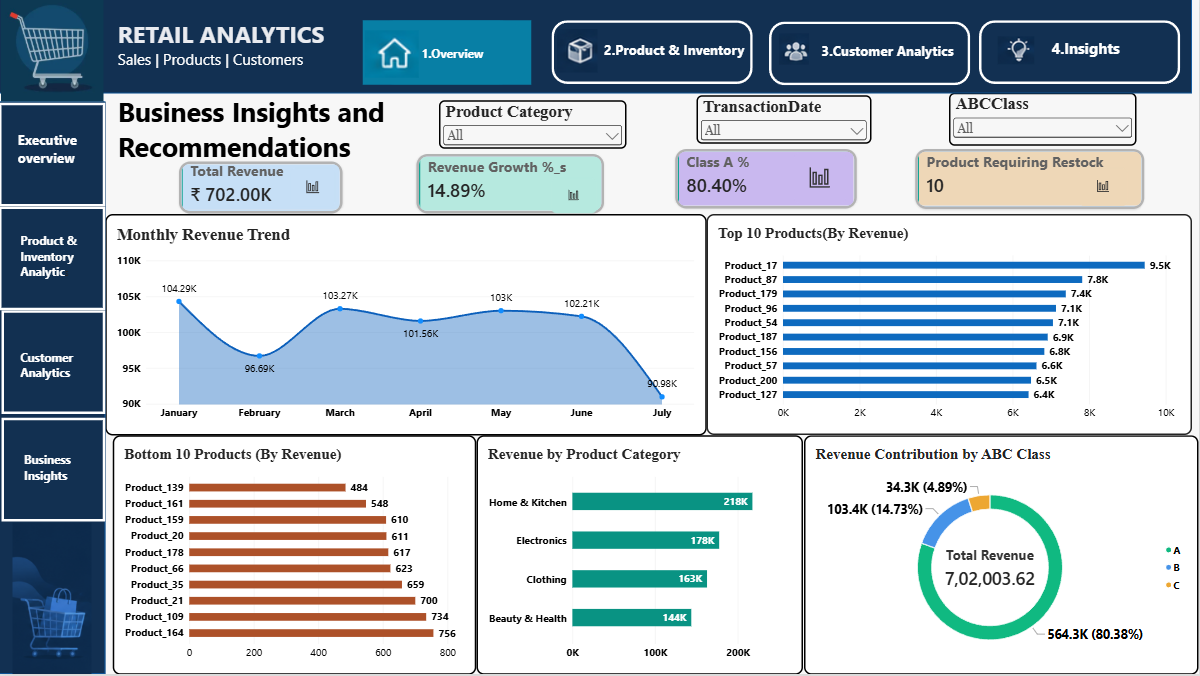

The dashboard page shown, as its layout file describes it:
{"tool":"powerbi","page":{"name":"Business Insights & Recommendations","canvas":[1920,1080],"ordinal":3},"visuals":[{"type":"slicer","fields":{"Values":["clean_sales.TransactionDate"]},"box":[1115.3,154.6,279.8,77.3],"z":0},{"type":"slicer","fields":{"Values":["clean_products.Category"]},"box":[703.1,162,300,77.3],"z":1000},{"type":"slicer","fields":{"Values":["abc_summary.ABCClass"]},"box":[1520.3,150.9,300,84.7],"z":2000},{"type":"cardVisual","fields":{"Data":["clean_sales.Total Revenue"]},"box":[289,259.5,261.4,82.8],"z":3000},{"type":"cardVisual","fields":{"Data":["clean_sales.Revenue Growth %_s"]},"box":[668.1,248.5,300,95],"z":4000},{"type":"cardVisual","fields":{"Data":["abc_summary.Class A %"]},"box":[1082.2,239.3,290,95],"z":5000},{"type":"cardVisual","fields":{"Data":["bottom10_products.restock"]},"box":[1466.9,239.3,366.3,95.7],"z":6000},{"type":"lineChart","title":"Monthly Revenue Trend","fields":{"Category":["DateTable.Date.Variation.Date Hierarchy.Month"],"Y":["Sum(clean_sales.Revenue)"]},"box":[170,344,962,354],"z":7000},{"type":"clusteredBarChart","title":"Revenue by Product Category","fields":{"Category":["category_performance.Category"],"Y":["Sum(category_performance.revenue)"]},"box":[763.8,697.5,522.7,382.8],"z":8000},{"type":"clusteredBarChart","title":"Top 10 Products(By Revenue)","fields":{"Category":["top10_products.ProductName"],"Y":["Sum(top10_products.Revenue)"]},"box":[1131.9,344.2,776.7,353.4],"z":9000},{"type":"clusteredBarChart","title":"Bottom 10 Products (By Revenue)","fields":{"Category":["bottom10_products.ProductName"],"Y":["Sum(bottom10_products.Revenue)"]},"box":[182.2,697.5,581.6,382.8],"z":10000},{"type":"donutChart","title":"Revenue Contribution by ABC Class","fields":{"Category":["abc_summary.ABCClass"],"Y":["Sum(abc_summary.revenue)"]},"box":[1288.4,697.5,631.3,382.8],"z":11000},{"type":"shape","box":[0,164,170,916],"z":12001},{"type":"shape","box":[0,166,170,914],"z":12002},{"type":"shape","box":[0,0,1908.6,150.9],"z":12003},{"type":"shape","box":[884,34,322,102],"z":12005},{"type":"shape","box":[582.5,35,269.6,102.9],"z":12006},{"type":"shape","box":[1232,36,322,102],"z":12007},{"type":"shape","box":[1568,34,322,102],"z":12008},{"type":"shape","box":[0,166,170,166],"z":12009},{"type":"shape","box":[4,498,166,166],"z":12011},{"type":"shape","box":[0,332,170,166],"z":12012},{"type":"shape","box":[4,670,166,166],"z":12013},{"type":"image","box":[0,838,170,242],"z":12014},{"type":"textbox","box":[190.6,30.2,392.5,120.8],"z":12015},{"type":"image","box":[0,0,169.8,164.2],"z":12016},{"type":"image","box":[582.5,49.4,92.6,76.2],"z":12017},{"type":"image","box":[884,48,82.3,70],"z":12018},{"type":"image","box":[1248,38,48,84],"z":12019},{"type":"image","box":[1598,42,58,80],"z":12020},{"type":"textbox","box":[967.9,66,230.2,73.6],"z":12021},{"type":"textbox","box":[1315.1,67.9,217,62.3],"z":12022},{"type":"textbox","box":[1683,62.3,169.8,43.4],"z":12023},{"type":"textbox","box":[675.5,73.6,149.1,34],"z":12024},{"type":"textbox","box":[30,210,124,90],"z":12025},{"type":"textbox","box":[34,373.6,149.1,105.7],"z":12026},{"type":"textbox","box":[34,560.4,149.1,64.2],"z":12027},{"type":"textbox","box":[40.5,723.3,149.1,58.5],"z":12028},{"type":"clusteredColumnChart","fields":{"Category":["DateTable.Date.Variation.Date Hierarchy.Month"],"Y":["clean_sales.Total Revenue"]},"box":[465.6,270.6,71.8,62.6],"z":12030},{"type":"clusteredColumnChart","fields":{"Category":["DateTable.Date.Variation.Date Hierarchy.Month"],"Y":["clean_sales.Total Revenue"]},"box":[883.4,285.3,71.8,57.1],"z":12031},{"type":"clusteredColumnChart","fields":{"Category":["DateTable.Date.Variation.Date Hierarchy.Month"],"Y":["clean_sales.Total Revenue"]},"box":[1271.8,246.6,83,81.1],"z":12032},{"type":"clusteredColumnChart","fields":{"Category":["DateTable.Date.Variation.Date Hierarchy.Month"],"Y":["clean_sales.Total Revenue"]},"box":[1728.2,270.6,77.3,60.7],"z":12033},{"type":"textbox","box":[189.6,149.1,528.2,125.2],"z":12034}]}

Visuals, with their boxes in screenshot pixels (x1, y1, x2, y2), scaled from the page's 1920x1080 canvas onto the 1200x676 screenshot:
slicer - clean_sales.TransactionDate: region(697, 97, 872, 145)
slicer - clean_products.Category: region(439, 101, 627, 150)
slicer - abc_summary.ABCClass: region(950, 94, 1138, 147)
cardVisual - clean_sales.Total Revenue: region(181, 162, 344, 214)
cardVisual - clean_sales.Revenue Growth %_s: region(418, 156, 605, 215)
cardVisual - abc_summary.Class A %: region(676, 150, 858, 209)
cardVisual - bottom10_products.restock: region(917, 150, 1146, 210)
"Monthly Revenue Trend" lineChart: region(106, 215, 708, 437)
"Revenue by Product Category" clusteredBarChart: region(477, 437, 804, 675)
"Top 10 Products(By Revenue)" clusteredBarChart: region(707, 215, 1193, 437)
"Bottom 10 Products (By Revenue)" clusteredBarChart: region(114, 437, 477, 675)
"Revenue Contribution by ABC Class" donutChart: region(805, 437, 1199, 675)
shape: region(0, 103, 106, 675)
shape: region(0, 104, 106, 675)
shape: region(0, 0, 1193, 94)
shape: region(552, 21, 754, 85)
shape: region(364, 22, 533, 86)
shape: region(770, 23, 971, 86)
shape: region(980, 21, 1181, 85)
shape: region(0, 104, 106, 208)
shape: region(2, 312, 106, 416)
shape: region(0, 208, 106, 312)
shape: region(2, 419, 106, 523)
image: region(0, 525, 106, 675)
textbox: region(119, 19, 364, 95)
image: region(0, 0, 106, 103)
image: region(364, 31, 422, 79)
image: region(552, 30, 604, 74)
image: region(780, 24, 810, 76)
image: region(999, 26, 1035, 76)
textbox: region(605, 41, 749, 87)
textbox: region(822, 43, 958, 81)
textbox: region(1052, 39, 1158, 66)
textbox: region(422, 46, 515, 67)
textbox: region(19, 131, 96, 188)
textbox: region(21, 234, 114, 300)
textbox: region(21, 351, 114, 391)
textbox: region(25, 453, 118, 489)
clusteredColumnChart - DateTable.Date.Variation.Date Hierarchy.Month x clean_sales.Total Revenue: region(291, 169, 336, 209)
clusteredColumnChart - DateTable.Date.Variation.Date Hierarchy.Month x clean_sales.Total Revenue: region(552, 179, 597, 214)
clusteredColumnChart - DateTable.Date.Variation.Date Hierarchy.Month x clean_sales.Total Revenue: region(795, 154, 847, 205)
clusteredColumnChart - DateTable.Date.Variation.Date Hierarchy.Month x clean_sales.Total Revenue: region(1080, 169, 1128, 207)
textbox: region(118, 93, 449, 172)
